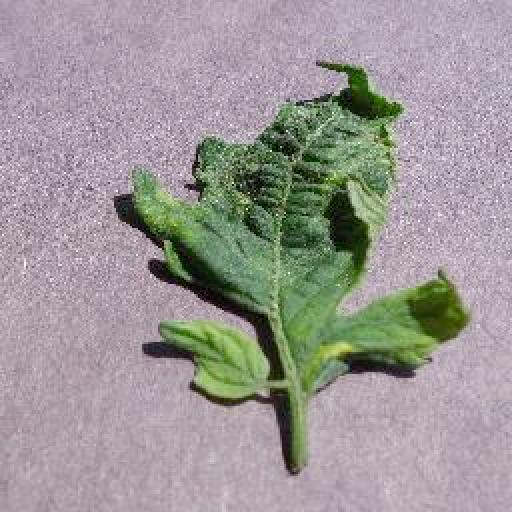Mosaic Virus: (124, 59, 472, 401)
